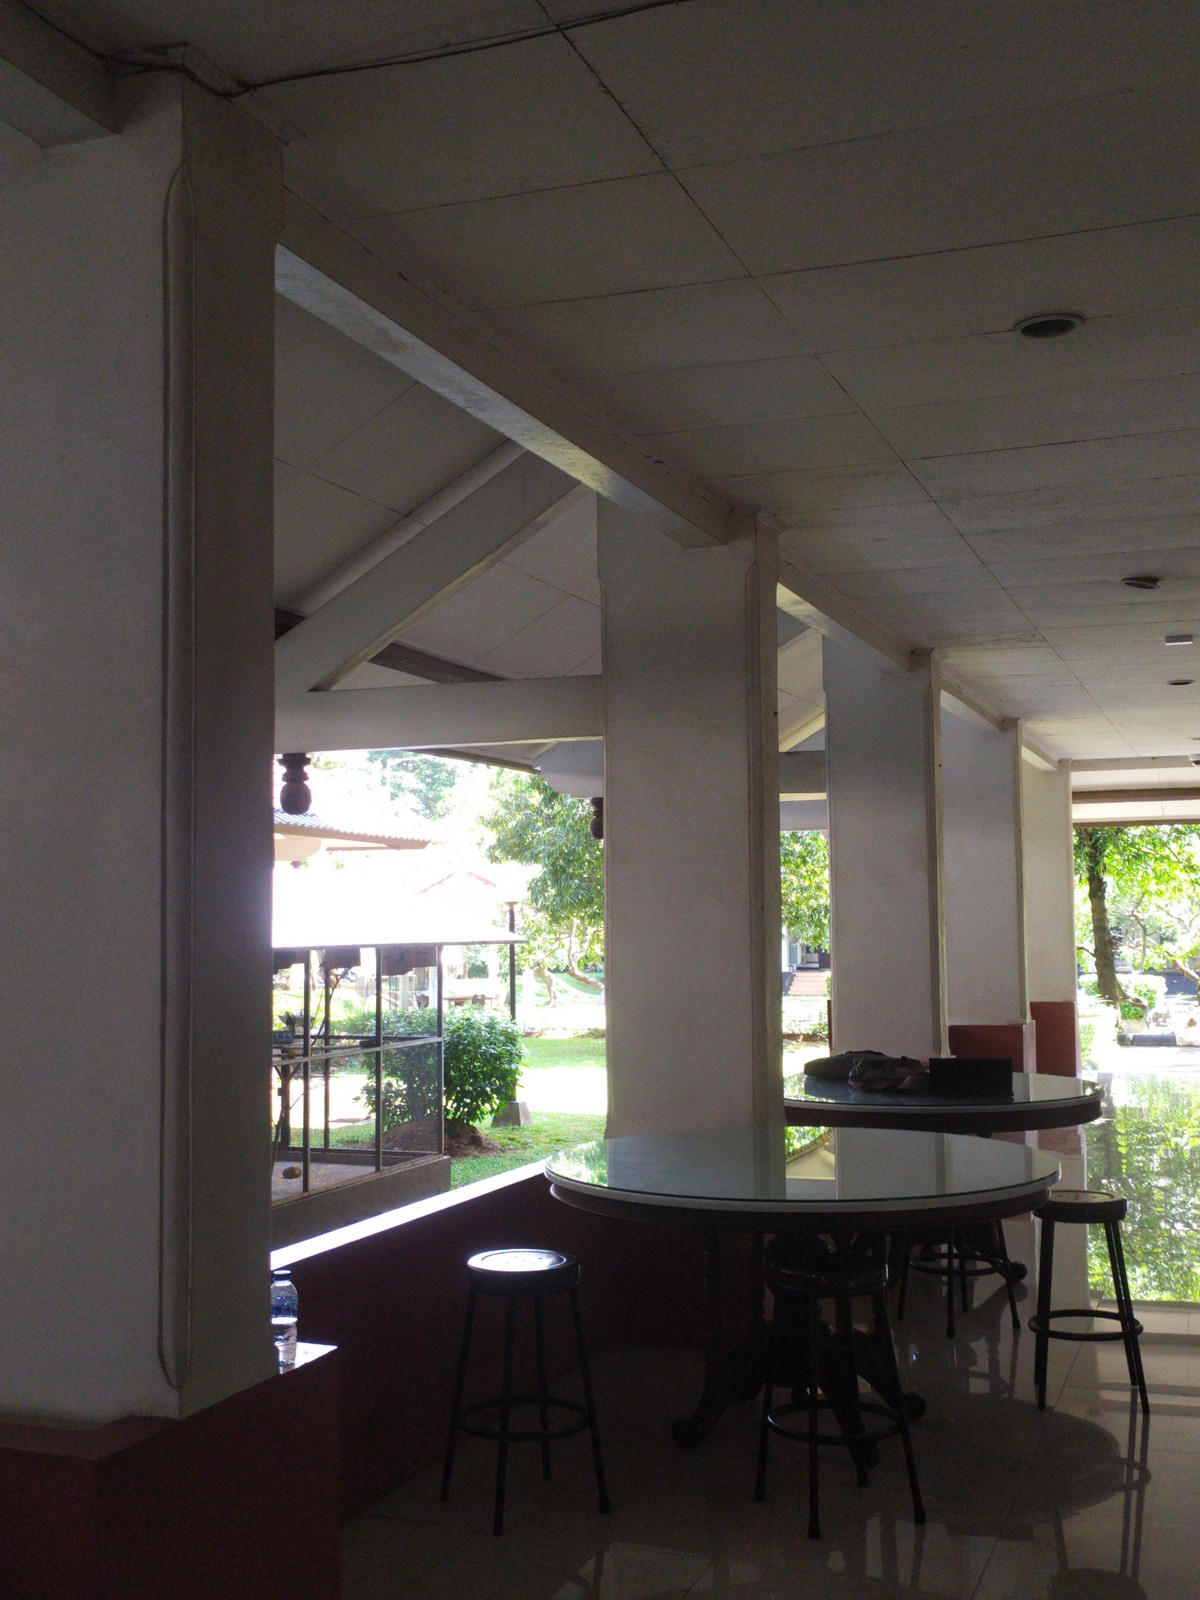concrete beam: (282, 227, 722, 540), (310, 663, 606, 772), (766, 562, 926, 688)
concrete column: (6, 81, 299, 1427), (589, 481, 794, 1139), (813, 614, 950, 1060), (937, 693, 1036, 1070)
